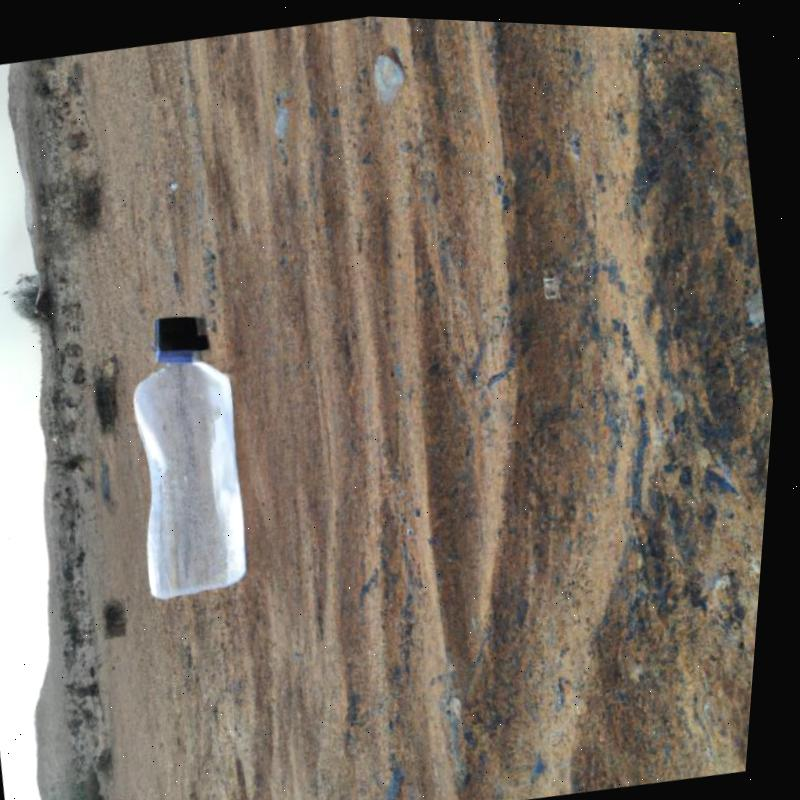botella: (105, 299, 279, 605)
